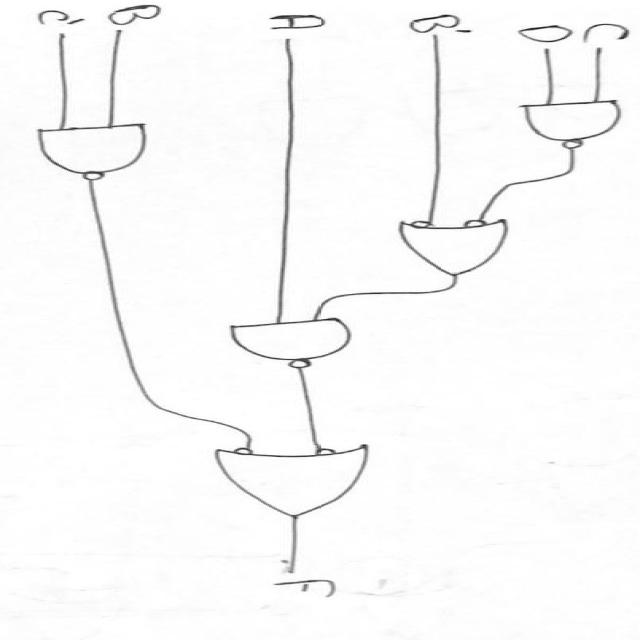NAND: (197, 316, 397, 376), (22, 120, 184, 187), (500, 95, 639, 155)
OR: (188, 441, 416, 526), (357, 208, 556, 288)
